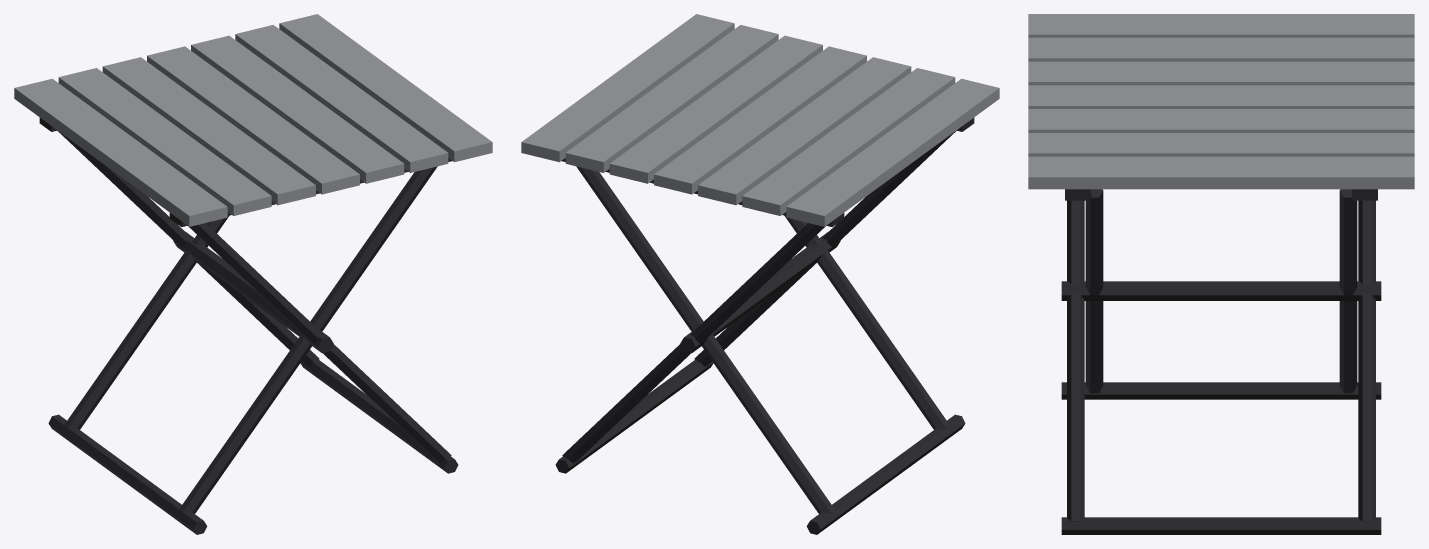
The model's file is FN_Table_Bistro.obj.
3 renders of one model, left to right at view 1: azimuth 30°, elevation 25°; view 2: azimuth 150°, elevation 25°; view 3: azimuth 270°, elevation 25°, orthographic. The views are drawn at different scales.
Visible parts, largest first — view 1: FN_Table_Bistro; view 2: FN_Table_Bistro; view 3: FN_Table_Bistro.
Boxes of the visible parts, x1=… form: FN_Table_Bistro: x1=14, y1=14, x2=492, y2=534; FN_Table_Bistro: x1=521, y1=14, x2=999, y2=534; FN_Table_Bistro: x1=1028, y1=14, x2=1414, y2=534.
Size of the model in its own units: 0.7 by 0.74 by 0.7.
1 material, 1 textured.
